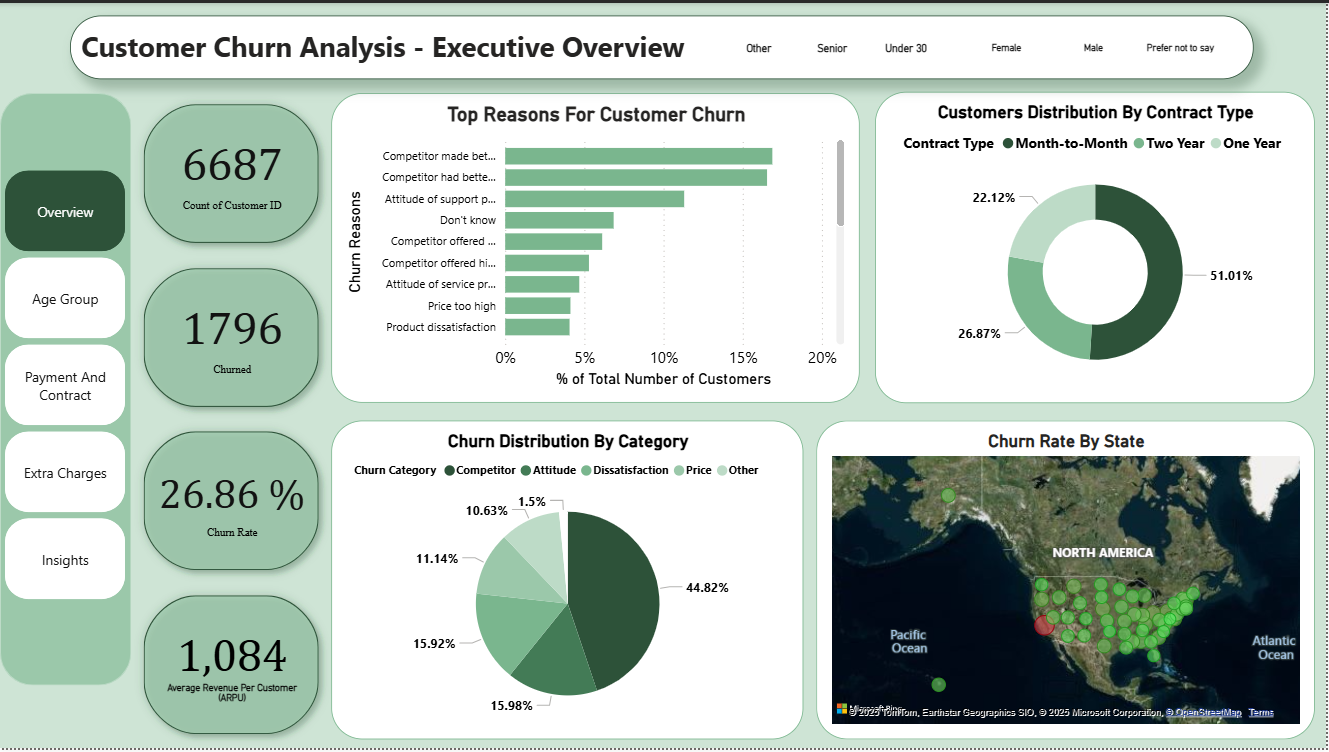

Layout of this report page (visuals, bound fields, positions):
{"tool":"powerbi","page":{"name":"Overview","canvas":[1280,720],"ordinal":0},"visuals":[{"type":"cardVisual","fields":{"Data":["Count(Databel - Data.Customer ID)","Sum(Databel - Data.Churned)","Databel - Data.Churn Rate","Databel - Data.average reveune per customer (ARPU)"]},"box":[126.8,85.7,193.2,633.8],"z":0},{"type":"clusteredBarChart","title":"Top Reasons For Customer Churn","fields":{"Category":["Databel - Data.Churn Reason"],"Y":["CountNonNull(Databel - Data.Number of Customers in Group)"]},"box":[319.9,86.9,510.7,299.4],"z":1000},{"type":"pieChart","title":"Churn Distribution By Category","fields":{"Category":["Databel - Data.Churn Category"],"Y":["CountNonNull(Databel - Data.Churn Label)"]},"box":[319.9,403.2,456.3,307.9],"z":2000},{"type":"donutChart","title":"Customers Distribution By Contract Type","fields":{"Y":["Count(Databel - Data.Customer ID)"],"Category":["Databel - Data.Contract Type"]},"box":[845.1,85.7,425,300.6],"z":3000},{"type":"map","title":"Churn Rate By State","fields":{"Category":["Databel - Data.State"],"Size":["Databel - Data.Churn Rate"]},"box":[788.3,403.2,481.7,307.9],"z":4000},{"type":"textbox","box":[67.6,12.1,1143.3,61.6],"z":5000},{"type":"advancedSlicerVisual","fields":{"Values":["Databel - Data.Gender"]},"box":[930.8,18.1,253.5,49.5],"z":6000},{"type":"advancedSlicerVisual","fields":{"Values":["Databel - Data.Demographics"]},"box":[699,18.1,211.3,49.5],"z":7000},{"type":"shape","box":[0,86.9,126.8,572.2],"z":8000},{"type":"pageNavigator","box":[0,156.9,126.8,426.2],"z":9000},{"type":"actionButton","box":[0,160.6,126.8,79.7],"z":10000},{"type":"actionButton","box":[0,246.3,126.8,79.7],"z":11000},{"type":"actionButton","box":[0,330.8,126.8,79.7],"z":12000},{"type":"actionButton","box":[0,415.3,126.8,79.7],"z":13000},{"type":"actionButton","box":[0,503.4,126.8,79.7],"z":14000}]}

Visuals, with their boxes in screenshot pixels (x1, y1, x2, y2), scaled from the page's 1280x720 canvas onto the 1329x752 screenshot:
cardVisual - Count(Databel - Data.Customer ID) x Sum(Databel - Data.Churned): pyautogui.locateOnScreen(132, 90, 332, 751)
"Top Reasons For Customer Churn" clusteredBarChart: pyautogui.locateOnScreen(332, 91, 862, 403)
"Churn Distribution By Category" pieChart: pyautogui.locateOnScreen(332, 421, 806, 743)
"Customers Distribution By Contract Type" donutChart: pyautogui.locateOnScreen(877, 90, 1319, 403)
"Churn Rate By State" map: pyautogui.locateOnScreen(818, 421, 1319, 743)
textbox: pyautogui.locateOnScreen(70, 13, 1257, 77)
advancedSlicerVisual - Databel - Data.Gender: pyautogui.locateOnScreen(966, 19, 1230, 71)
advancedSlicerVisual - Databel - Data.Demographics: pyautogui.locateOnScreen(726, 19, 945, 71)
shape: pyautogui.locateOnScreen(0, 91, 132, 688)
pageNavigator: pyautogui.locateOnScreen(0, 164, 132, 609)
actionButton: pyautogui.locateOnScreen(0, 168, 132, 251)
actionButton: pyautogui.locateOnScreen(0, 257, 132, 340)
actionButton: pyautogui.locateOnScreen(0, 346, 132, 429)
actionButton: pyautogui.locateOnScreen(0, 434, 132, 517)
actionButton: pyautogui.locateOnScreen(0, 526, 132, 609)
